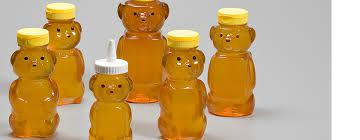Plastic: (209, 5, 258, 119)
